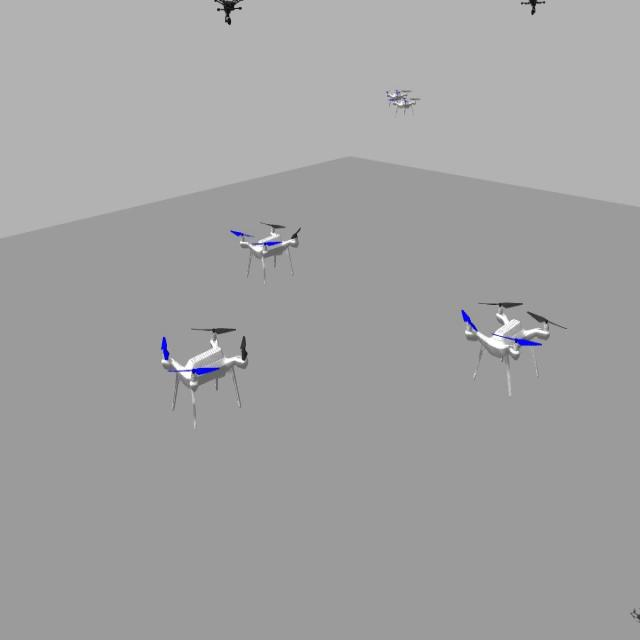Drone: (159, 317, 253, 431)
